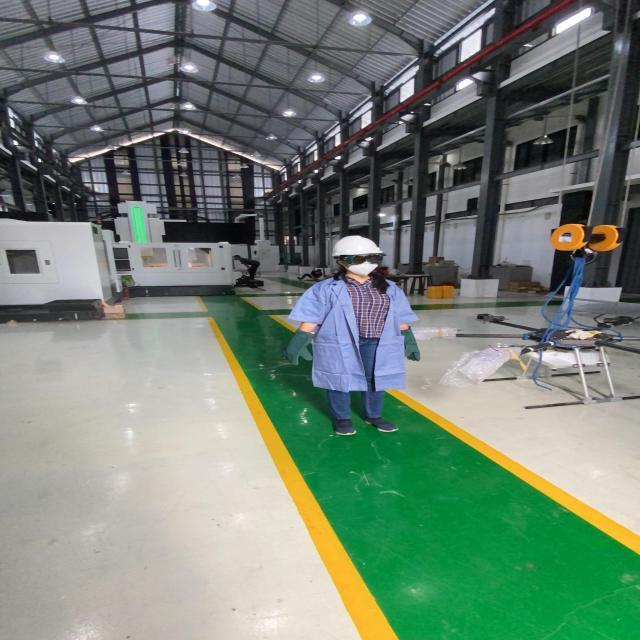glasses: (338, 253, 388, 266)
